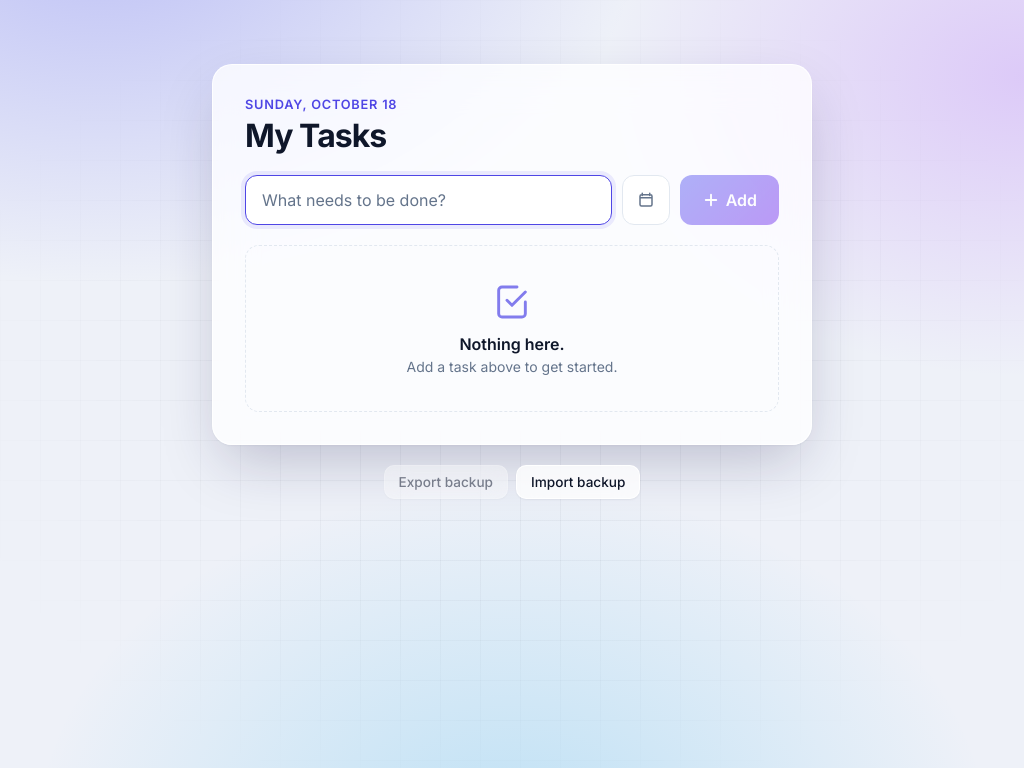
it: App › cancels an edit with Escape
In the field named "New task": (428, 200) [245,175,612,225], type "Keep me"
Then press Enter
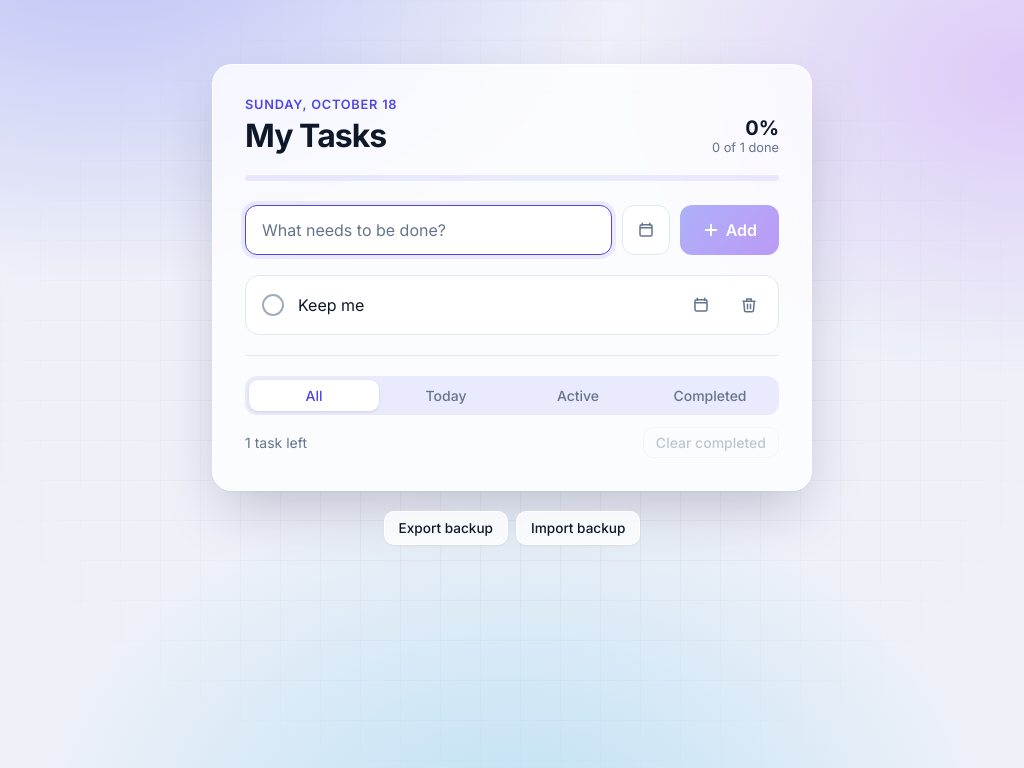
Double-click the text "Keep me": (331, 305) [298,295,364,315]
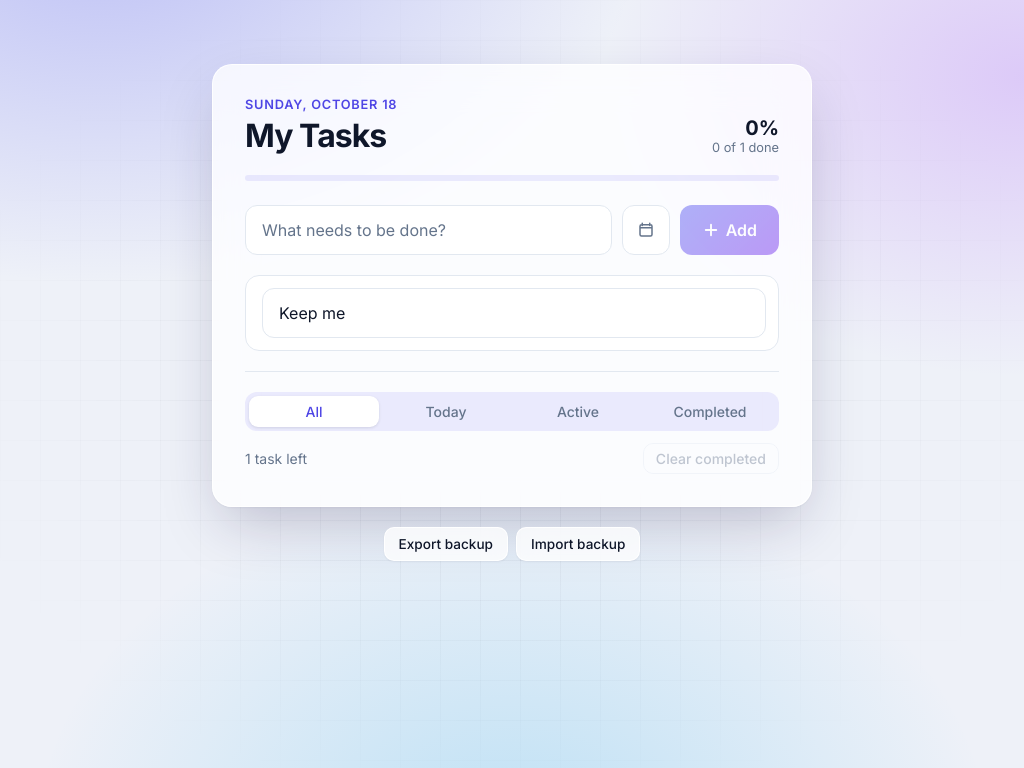
In the field named "Edit task": (514, 313) [262,288,766,338], type " changed"
Then press Escape
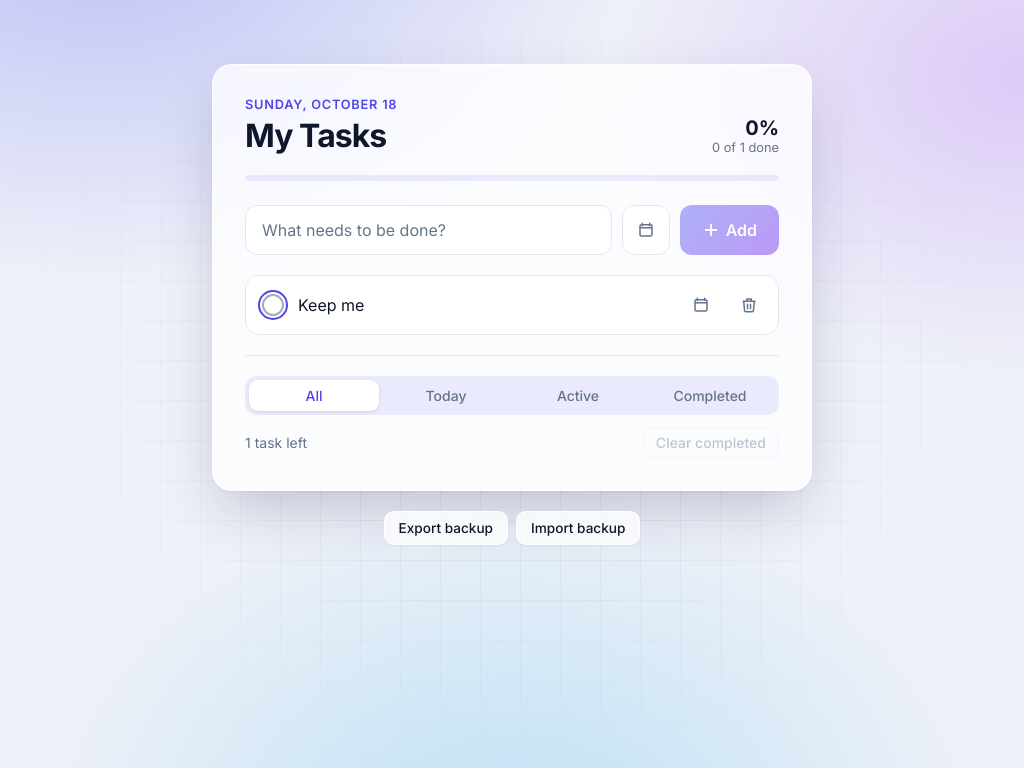
Result: the text "Keep me" is shown at [298,295,364,315]
